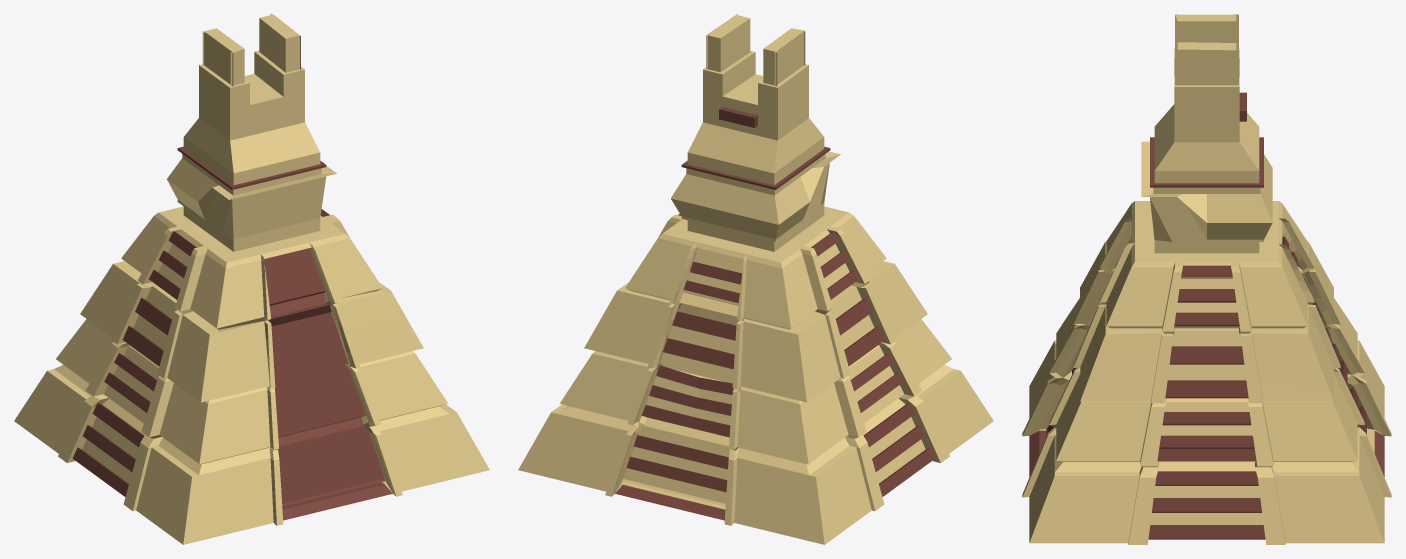
Rendered from fondos p3.fbx.
The picture shows the model from 3 angles, left to right: view 1: azimuth 30°, elevation 25°; view 2: azimuth 150°, elevation 25°; view 3: azimuth 270°, elevation 25°; orthographic projection. The views are drawn at different scales.
Parts seen in each view (by area): view 1: Cube.006; view 2: Cube.006; view 3: Cube.006.
Boxes of the visible parts, left/top/right/bottom form: Cube.006: left=14, top=14, right=489, bottom=544; Cube.006: left=518, top=14, right=993, bottom=544; Cube.006: left=1022, top=14, right=1391, bottom=544.
Bounding box in the file's own units: 519 × 656 × 504.
